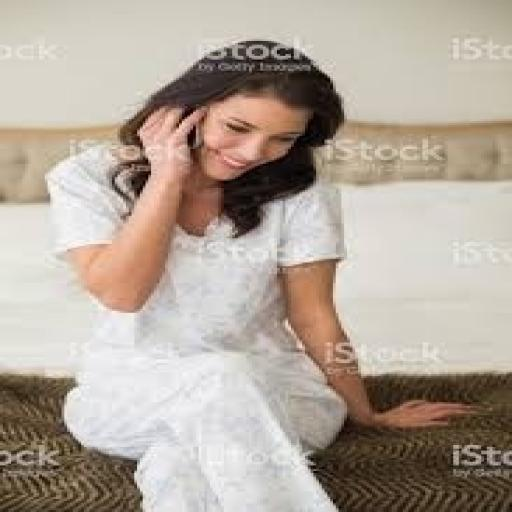calling: (42, 37, 487, 510)
